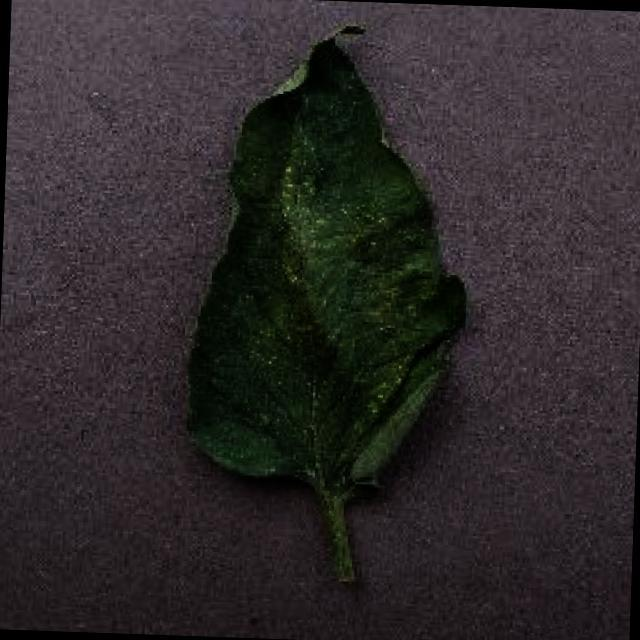Tomato spider mites leaf: (184, 21, 476, 503)
